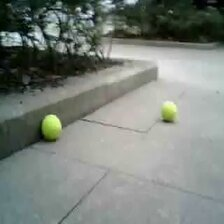tennis: (40, 114, 61, 139), (160, 104, 177, 121)
